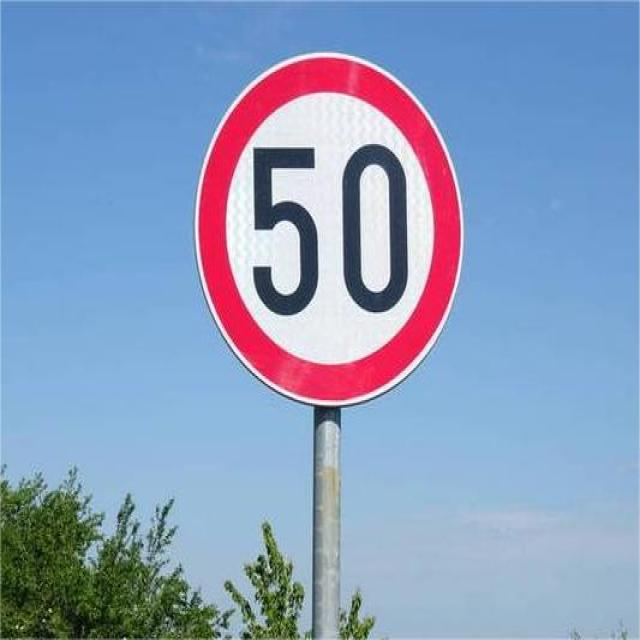speed limit 50: (195, 53, 464, 404)
